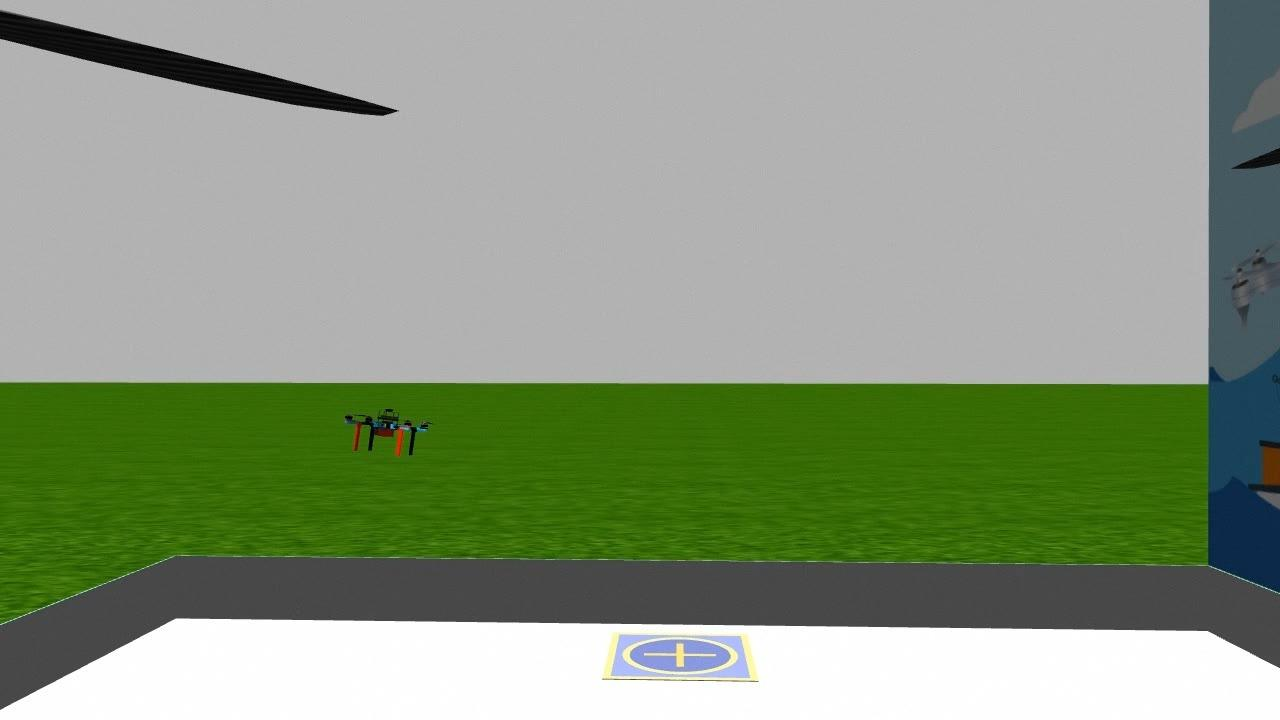UAV: (340, 402, 430, 462)
